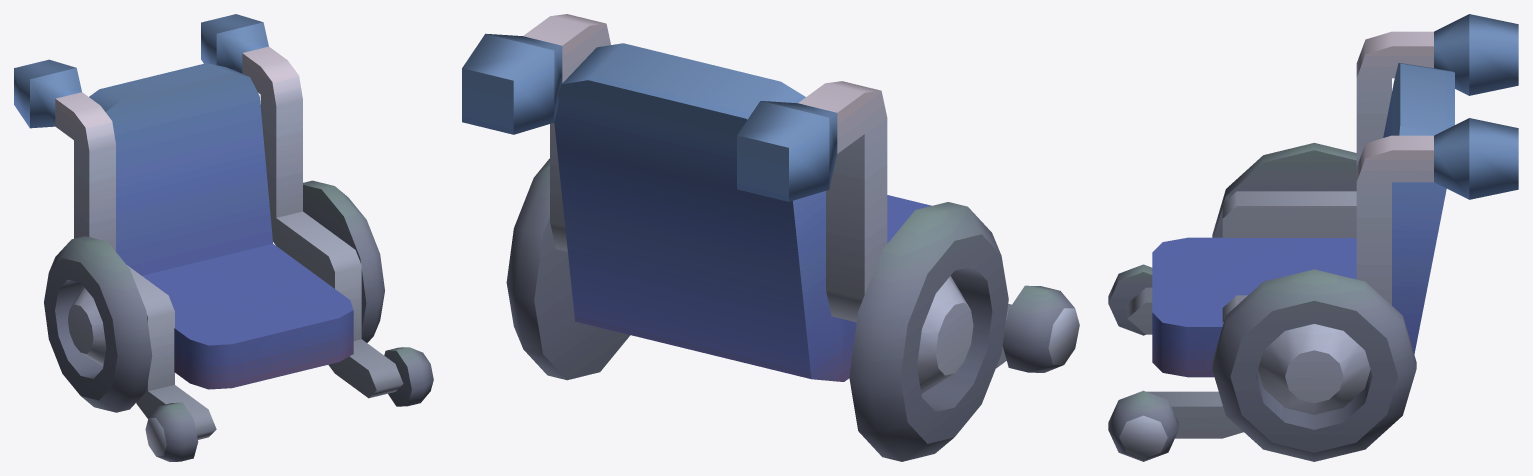
The model's file is char_wheelchair.glb.
3 views of the same model, side by side, from view 1: azimuth 30°, elevation 25°; view 2: azimuth 150°, elevation 25°; view 3: azimuth 270°, elevation 25° (orthographic). The views are drawn at different scales.
Visible parts, largest first — view 1: wheelchair; view 2: wheelchair; view 3: wheelchair.
Part boxes in pixels (box(x1,y1,x2,y2)): wheelchair: box(14, 14, 433, 461); wheelchair: box(462, 14, 1079, 461); wheelchair: box(1108, 14, 1518, 461).
Bounding box in the file's own units: 0.5 × 0.495 × 0.5824.
1 material, 1 textured.
